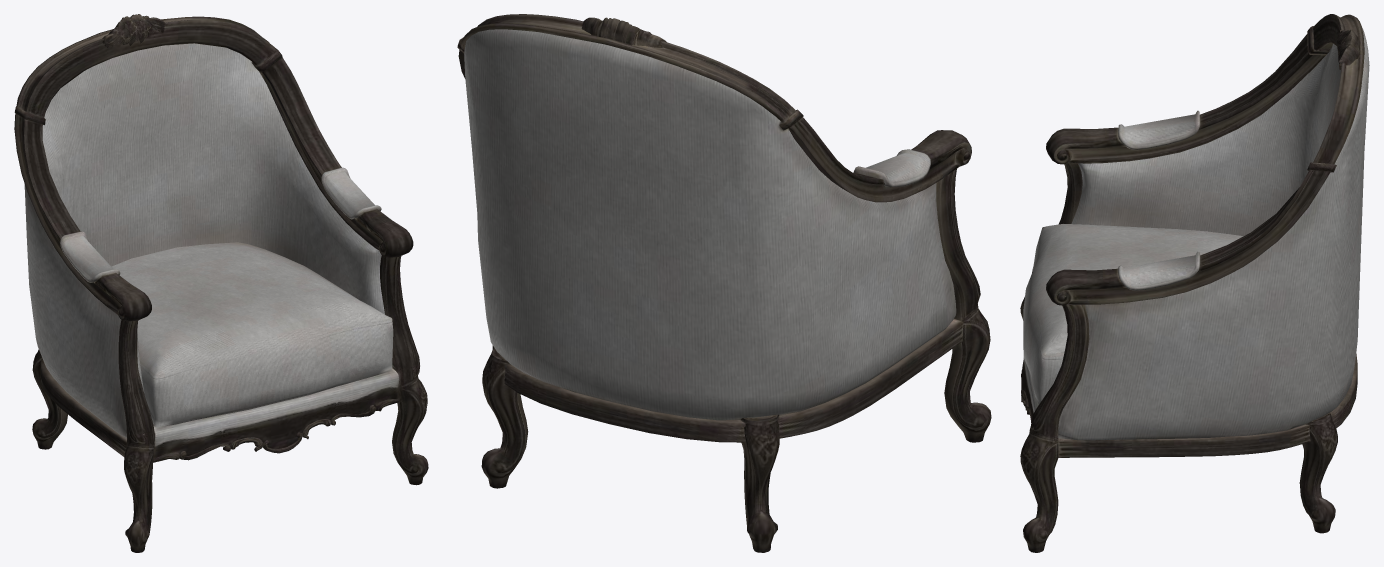
The model's file is armchair-01.glb.
3 renders of one model, left to right at view 1: azimuth 30°, elevation 25°; view 2: azimuth 150°, elevation 25°; view 3: azimuth 270°, elevation 25°, orthographic. The views are drawn at different scales.
Visible parts, largest first — view 1: ArmChair_01; view 2: ArmChair_01; view 3: ArmChair_01.
Boxes of the visible parts, x1,y1,x2,y2 form: ArmChair_01: (14, 14, 428, 552); ArmChair_01: (457, 14, 991, 552); ArmChair_01: (1020, 14, 1369, 552).
Bounding box in the file's own units: 0.8484 × 1.07 × 0.7658.
1 material, 1 textured.
